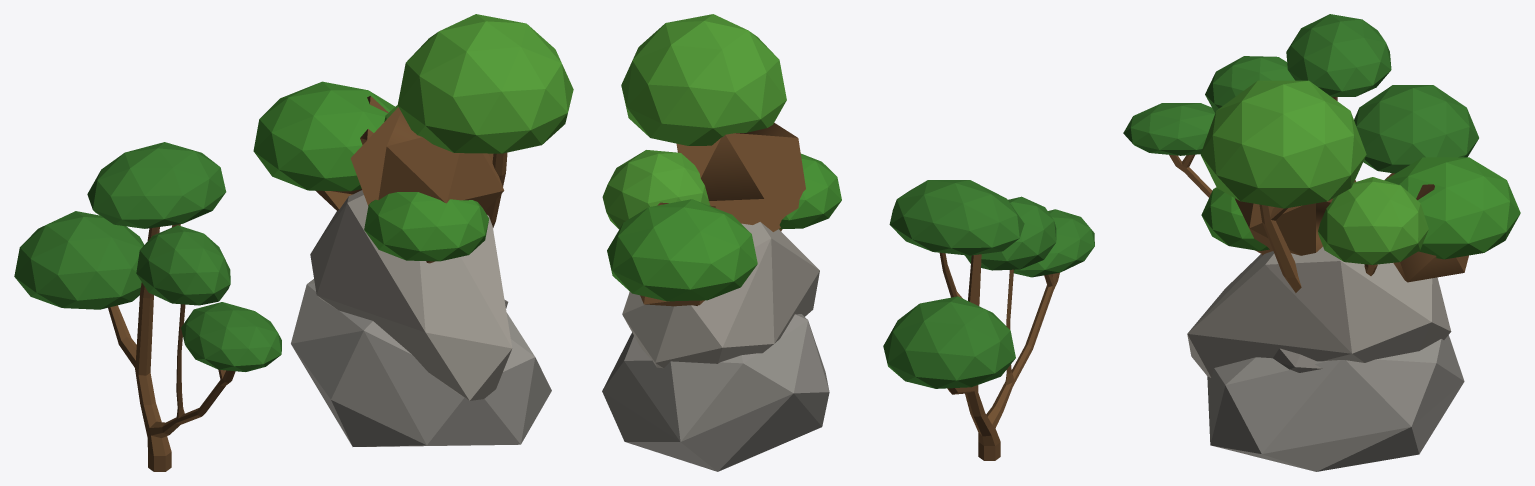
File: lowpoly_pack.glb
The picture shows the model from 3 angles, left to right: view 1: azimuth 30°, elevation 25°; view 2: azimuth 150°, elevation 25°; view 3: azimuth 270°, elevation 25°; orthographic projection. The views are drawn at different scales.
Visible parts, largest first — view 1: Icosphere (×2), Cylinder002, Icosphere002, Icosphere001, Icosphere008; view 2: Icosphere (×2), Cylinder002, Icosphere002, Icosphere001, Icosphere008; view 3: Icosphere (×3), Icosphere002, Cylinder002, Icosphere001, Icosphere008.
Part boxes in pixels (bbox=[...]): Icosphere (×2): bbox=[291, 190, 551, 446]; Cylinder002: bbox=[14, 142, 281, 471]; Icosphere002: bbox=[384, 14, 573, 227]; Icosphere001: bbox=[253, 81, 488, 263]; Icosphere008: bbox=[315, 96, 504, 210]; Icosphere (×2): bbox=[602, 222, 829, 471]; Cylinder002: bbox=[883, 180, 1094, 460]; Icosphere002: bbox=[602, 14, 786, 229]; Icosphere001: bbox=[607, 153, 841, 305]; Icosphere008: bbox=[640, 122, 805, 306]; Icosphere (×3): bbox=[1187, 247, 1464, 471]; Icosphere002: bbox=[1200, 80, 1428, 292]; Cylinder002: bbox=[1123, 14, 1478, 197]; Icosphere001: bbox=[1201, 157, 1520, 259]; Icosphere008: bbox=[1235, 180, 1468, 282].
Size of the model in its own units: 4.98 by 4.1 by 4.
